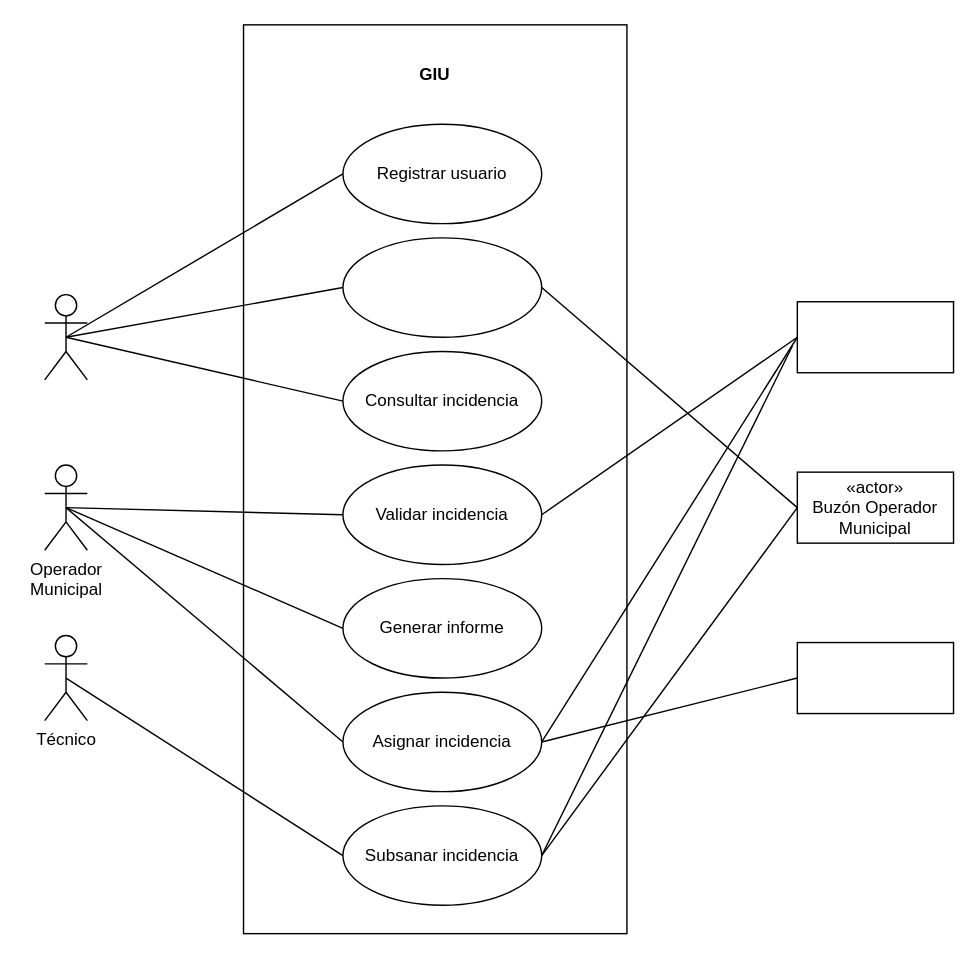
This 978x959 diagram has some shape labels left out. Here are the shapes that lost their labels. From the top down, the centre of each, then its label:
the point at 442,286: Registrar incidencia
the point at 65,336: Ciudadano
the point at 875,336: «actor» Buzón Ciudadano
the point at 875,677: «actor» Buzón Técnico
